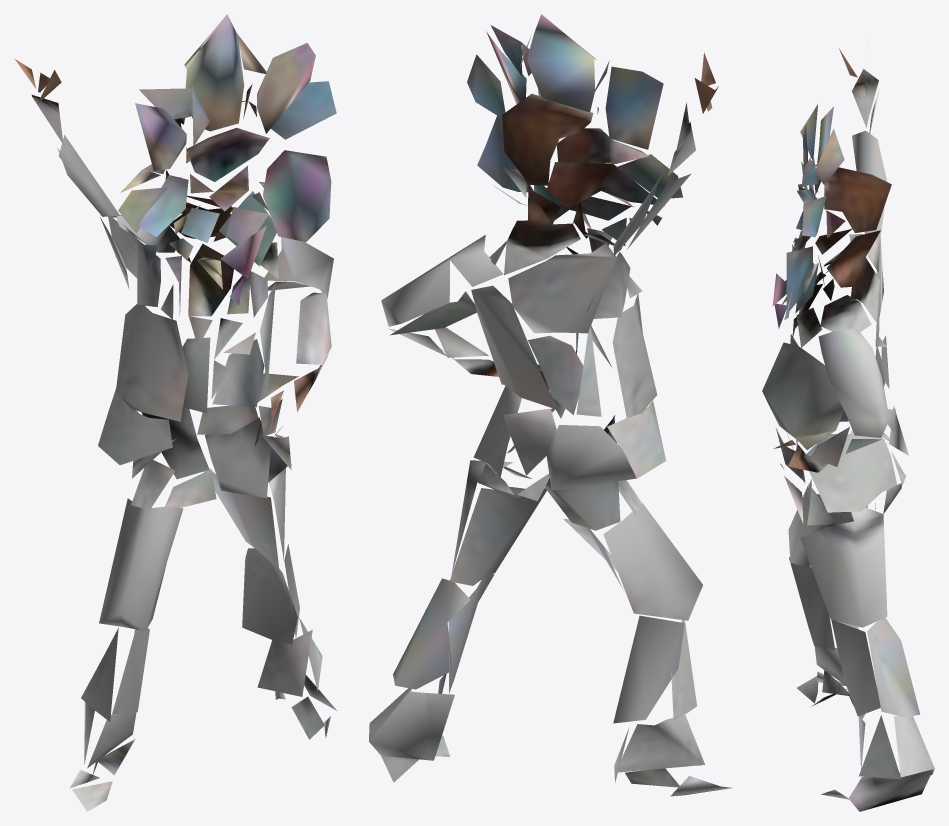
The model's file is cast_discoking_far.glb.
The picture shows the model from 3 angles, left to right: view 1: azimuth 30°, elevation 25°; view 2: azimuth 150°, elevation 25°; view 3: azimuth 270°, elevation 25°; orthographic projection. The views are drawn at different scales.
Visible parts, largest first — view 1: tripo_node_b34096fa-347c-4600-b127-7b8cc124b146; view 2: tripo_node_b34096fa-347c-4600-b127-7b8cc124b146; view 3: tripo_node_b34096fa-347c-4600-b127-7b8cc124b146.
Boxes of the visible parts, bbox=[...] form: tripo_node_b34096fa-347c-4600-b127-7b8cc124b146: bbox=[14, 14, 336, 811]; tripo_node_b34096fa-347c-4600-b127-7b8cc124b146: bbox=[369, 14, 732, 796]; tripo_node_b34096fa-347c-4600-b127-7b8cc124b146: bbox=[762, 48, 934, 811].
Bounding box in the file's own units: 0.4447 × 0.9835 × 0.2289.
Materials: 1 (1 with a texture image).
